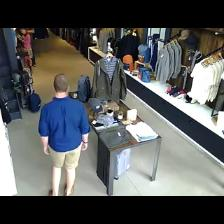person: (39, 74, 90, 195), (21, 28, 32, 56), (28, 28, 34, 51)
